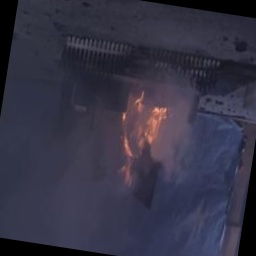fire: (106, 81, 174, 175)
